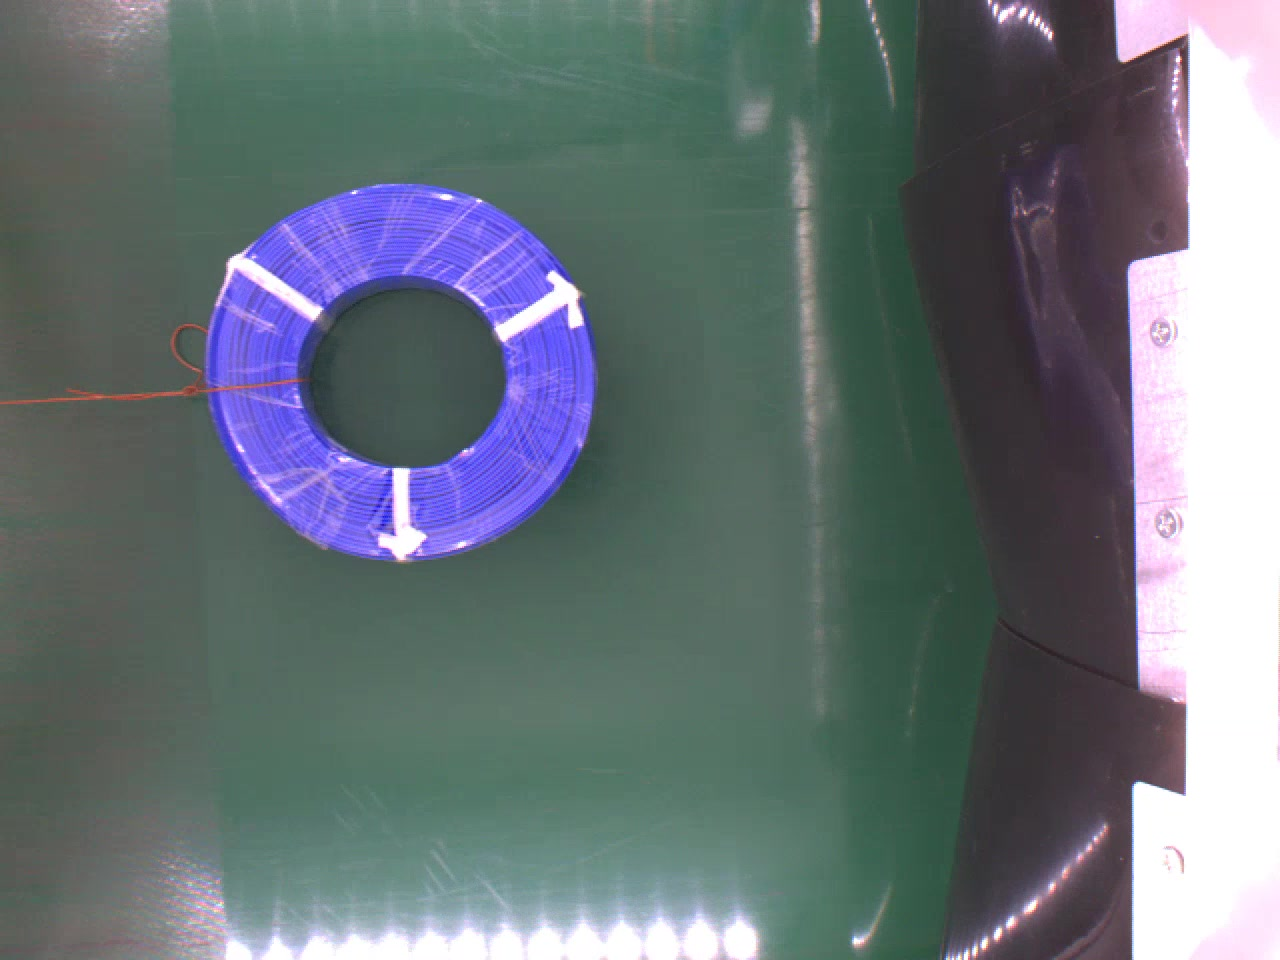blue: (202, 179, 594, 558)
